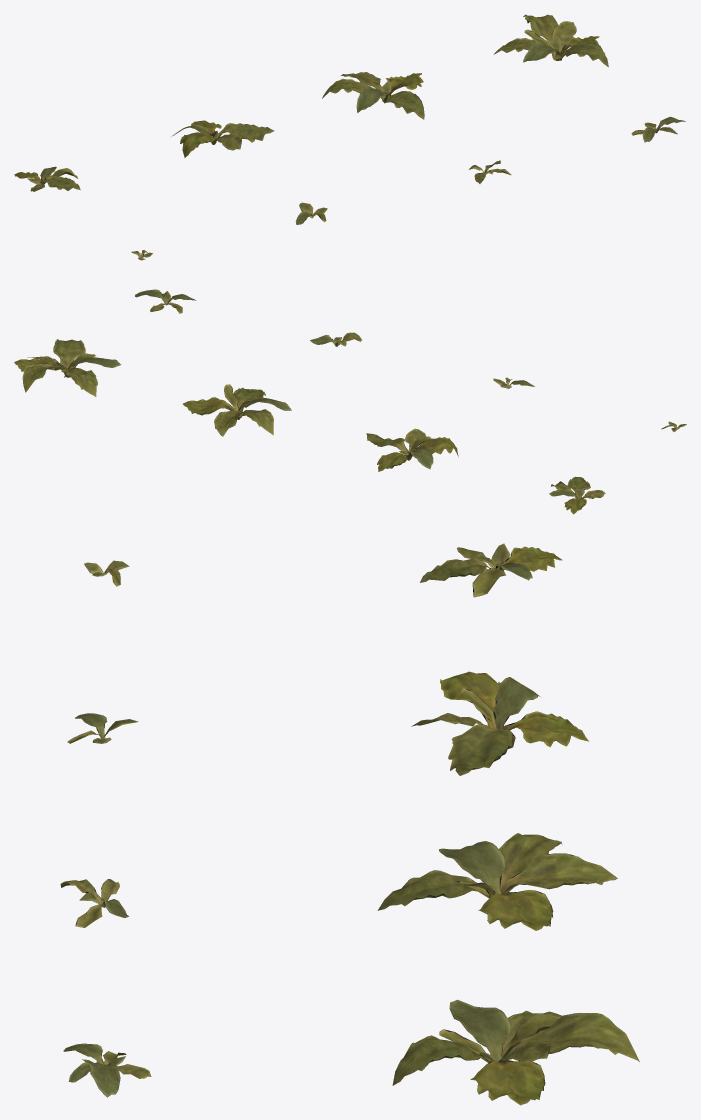
File: crystalline_iceplant.glb
3 views of the same model, one above another, from view 1: azimuth 30°, elevation 25°; view 2: azimuth 150°, elevation 25°; view 3: azimuth 270°, elevation 25° (orthographic). The views are drawn at different scales.
Parts seen in each view (by area): view 1: crystalline_iceplant_a_LOD0; view 2: crystalline_iceplant_a_LOD0; view 3: crystalline_iceplant_a_LOD0.
Boxes of the visible parts, x1,y1,x2,y2 form: crystalline_iceplant_a_LOD0: [14, 14, 685, 260]; crystalline_iceplant_a_LOD0: [14, 289, 686, 514]; crystalline_iceplant_a_LOD0: [60, 543, 639, 1105].
Bounding box in the file's own units: 1.69 × 0.0821 × 0.7379.
Materials: 1 (1 with a texture image).
